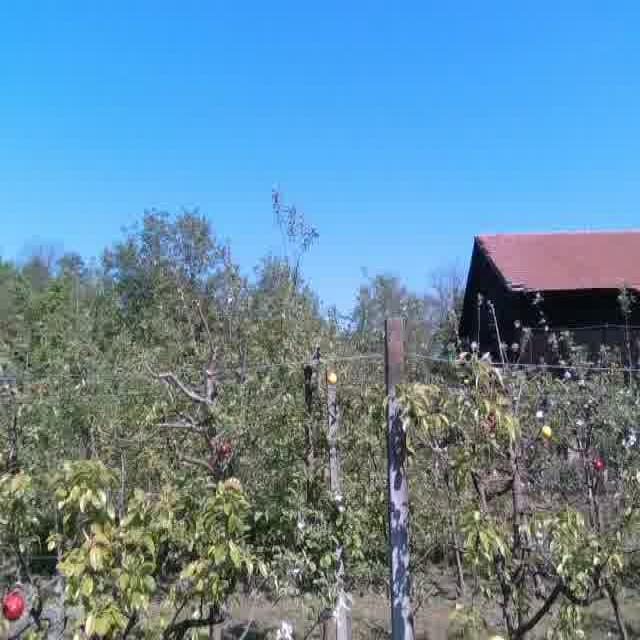red: (3, 589, 28, 624), (591, 457, 607, 472)
yellow: (326, 368, 340, 386), (538, 422, 552, 440)
